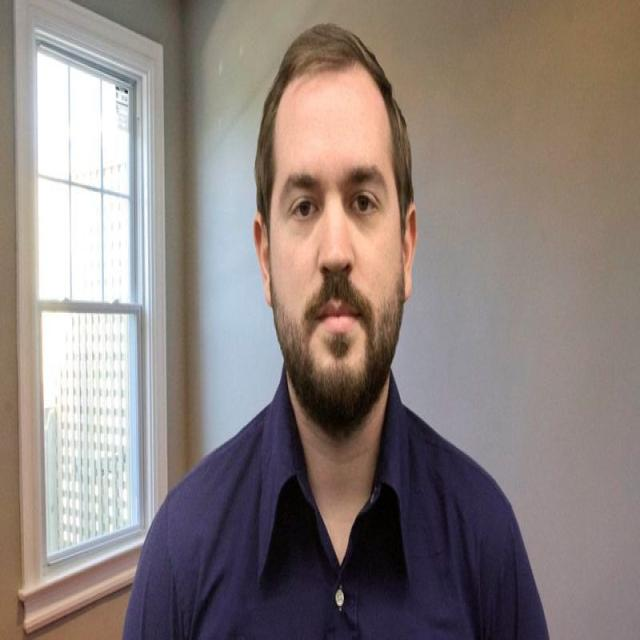human: (117, 23, 554, 640)
